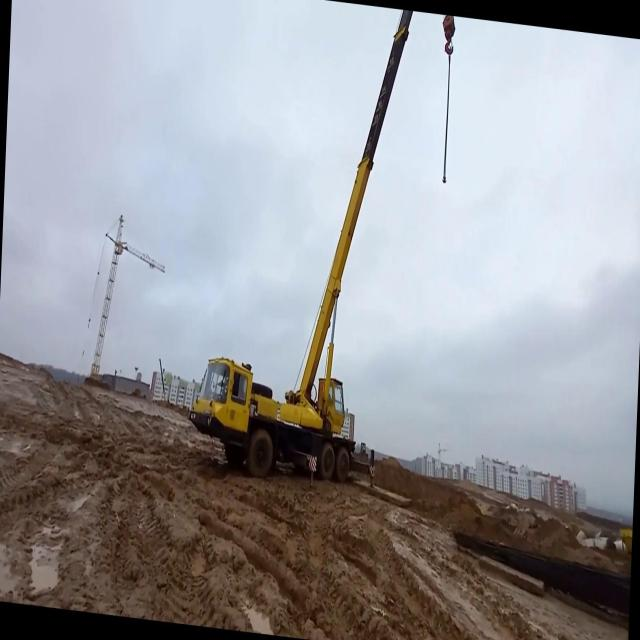crane: (186, 0, 457, 505)
